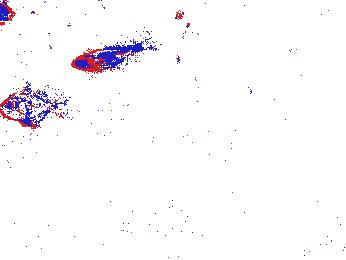X-ray fish: (1, 91, 67, 123)
red belly glassfish: (70, 40, 143, 73), (282, 40, 325, 57)
